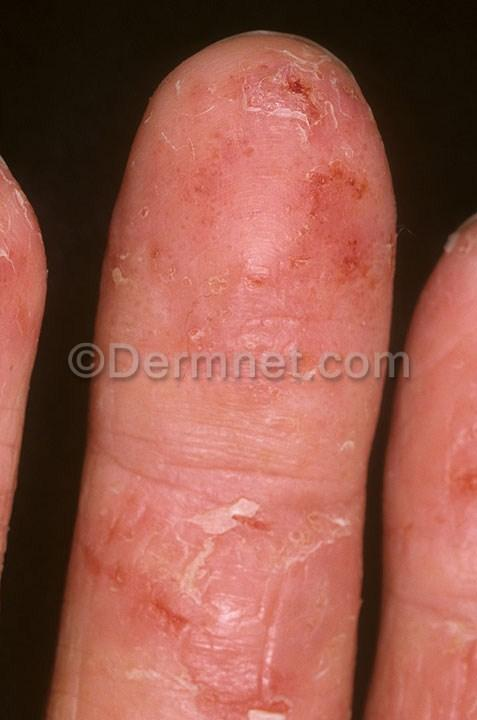Eczema: (89, 439, 373, 713), (143, 55, 408, 345)
